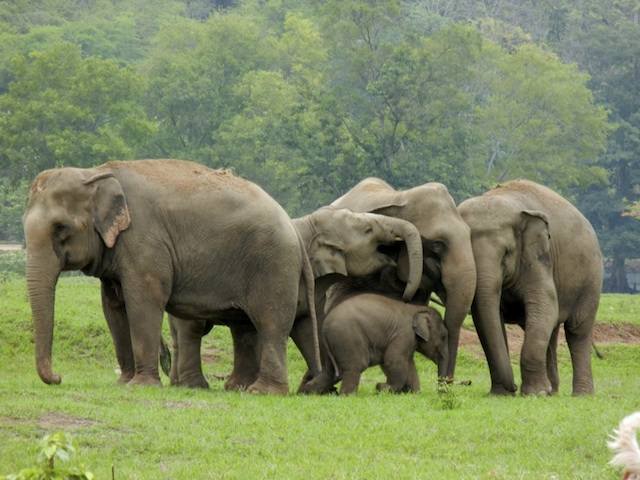elephant: (18, 154, 323, 396), (178, 200, 423, 391), (455, 177, 609, 412), (329, 172, 483, 387), (314, 289, 457, 399)
